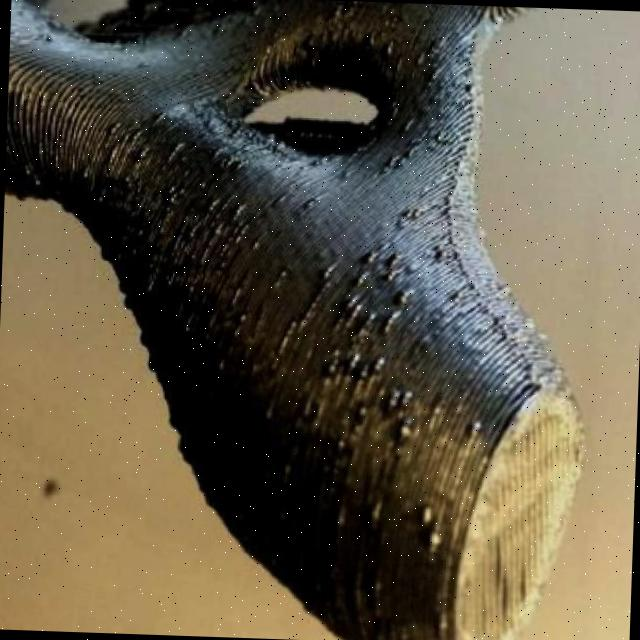blobs: (396, 278, 418, 304), (396, 420, 421, 440), (417, 501, 438, 522), (400, 384, 419, 406), (379, 37, 398, 59), (357, 394, 373, 417), (427, 529, 444, 547), (319, 356, 338, 372), (333, 437, 352, 453), (364, 29, 379, 48), (466, 418, 486, 432), (354, 365, 374, 379), (362, 248, 377, 262)
